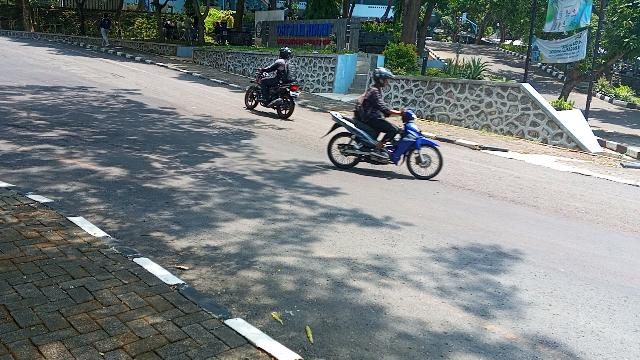helm: (374, 69, 397, 88), (280, 48, 292, 58)
motor: (321, 112, 443, 180), (247, 80, 302, 121)
